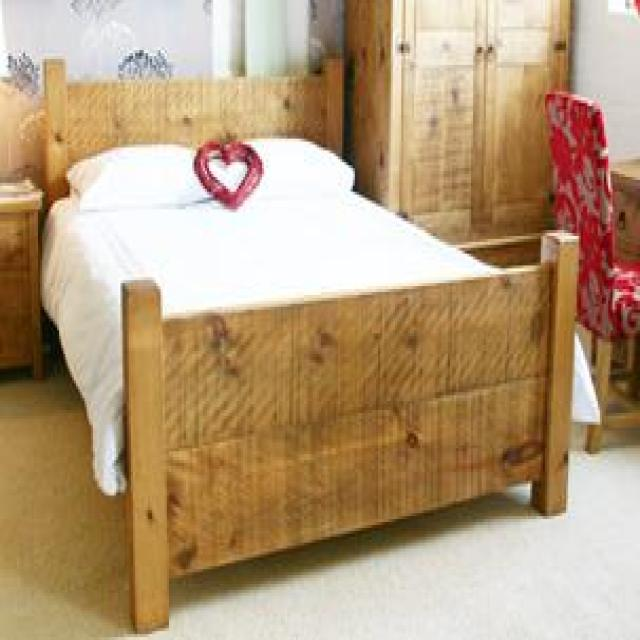bed: (38, 50, 585, 634)
chair: (543, 89, 640, 454)
